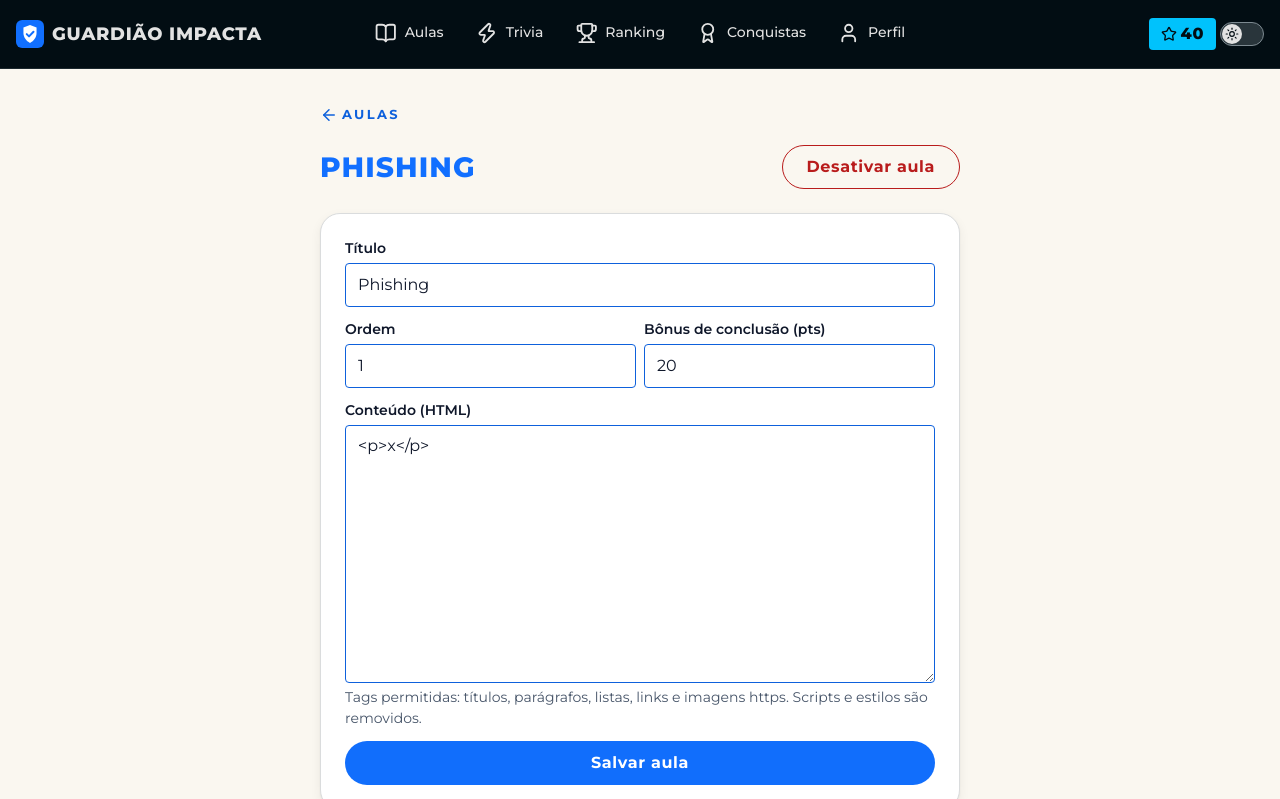
Test case: Editar aula (admin) › salva a aula e mostra confirmação; ordem repetida mostra erro
Expected: the navigation bar named "Navegação principal" is shown, [375,22,905,44]
Replace the text in the field labelled "Título" with "Phishing 2.0" at (640, 285), box [345,263,935,307]
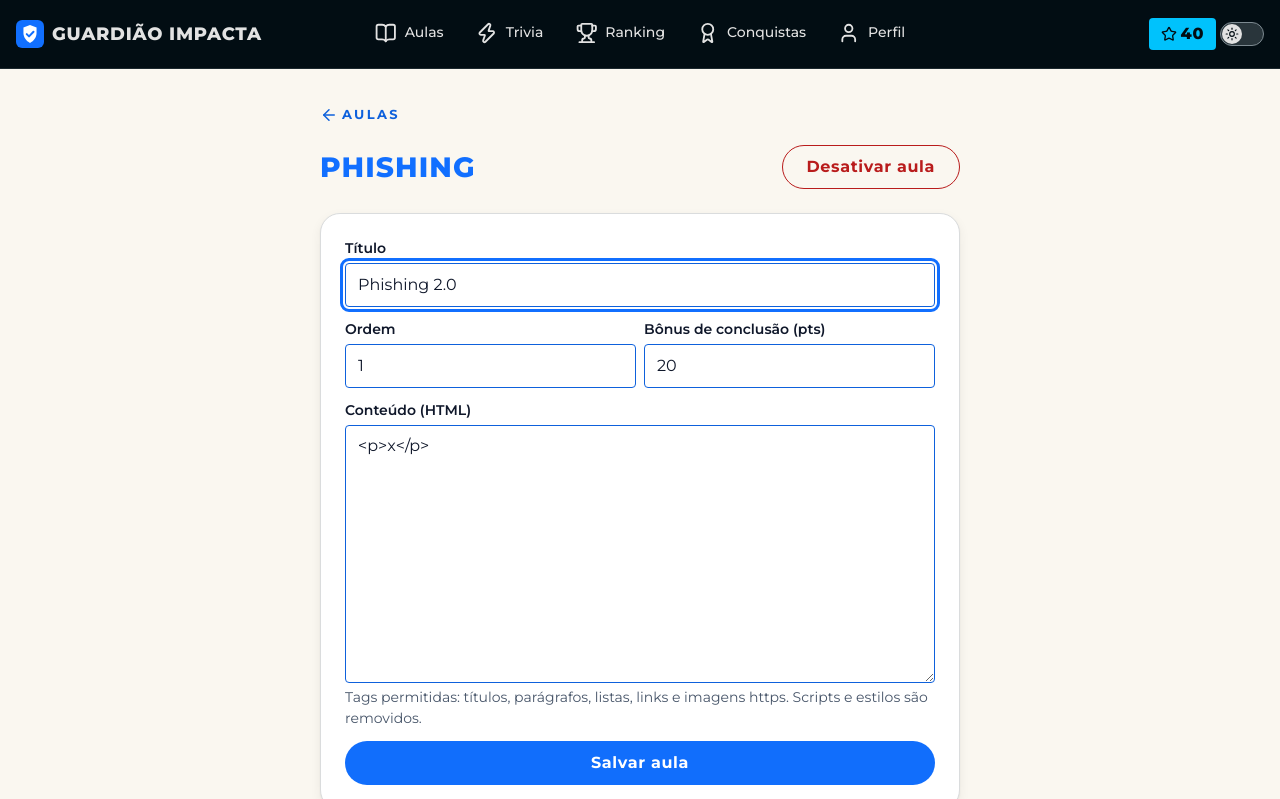
Click the button "Salvar aula" at (640, 763), box [345,741,935,785]
(page scrolled)
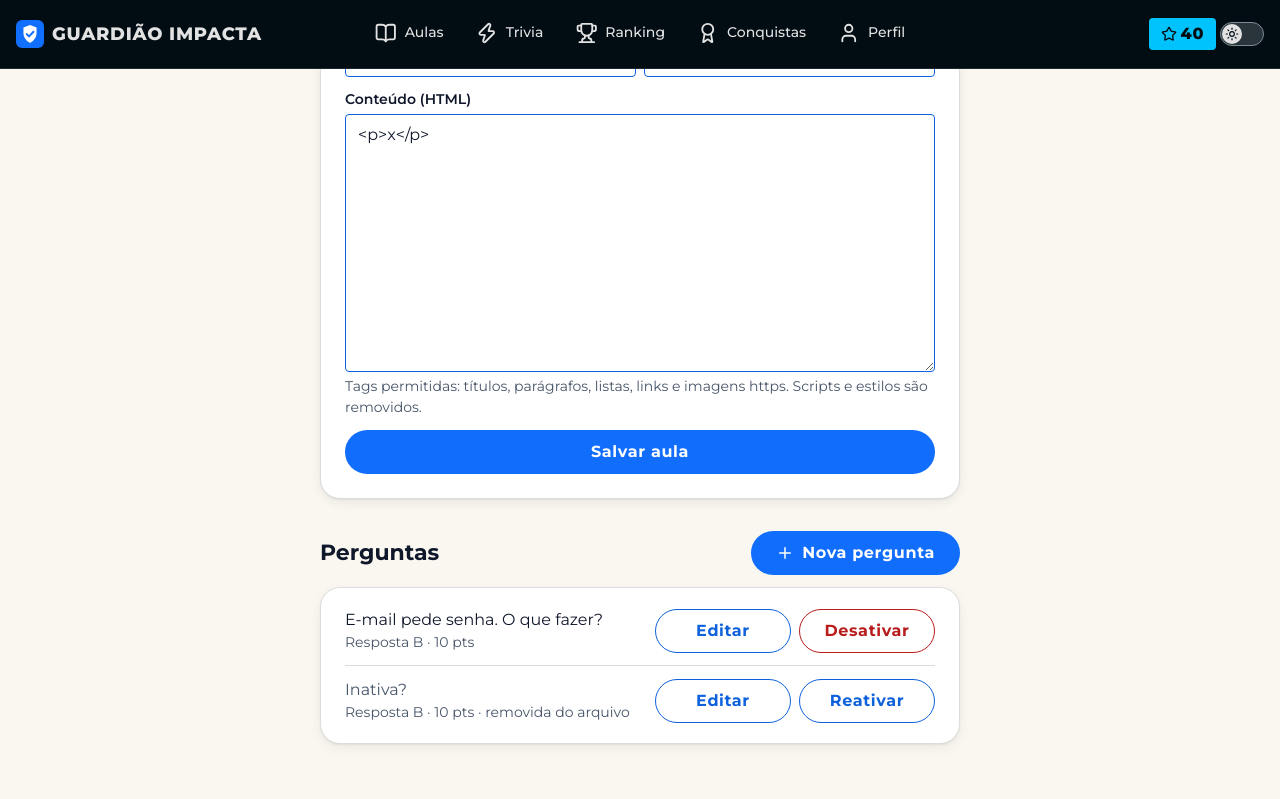
Click the button "Salvar aula" at (640, 452), box [345,430,935,474]
(page scrolled)
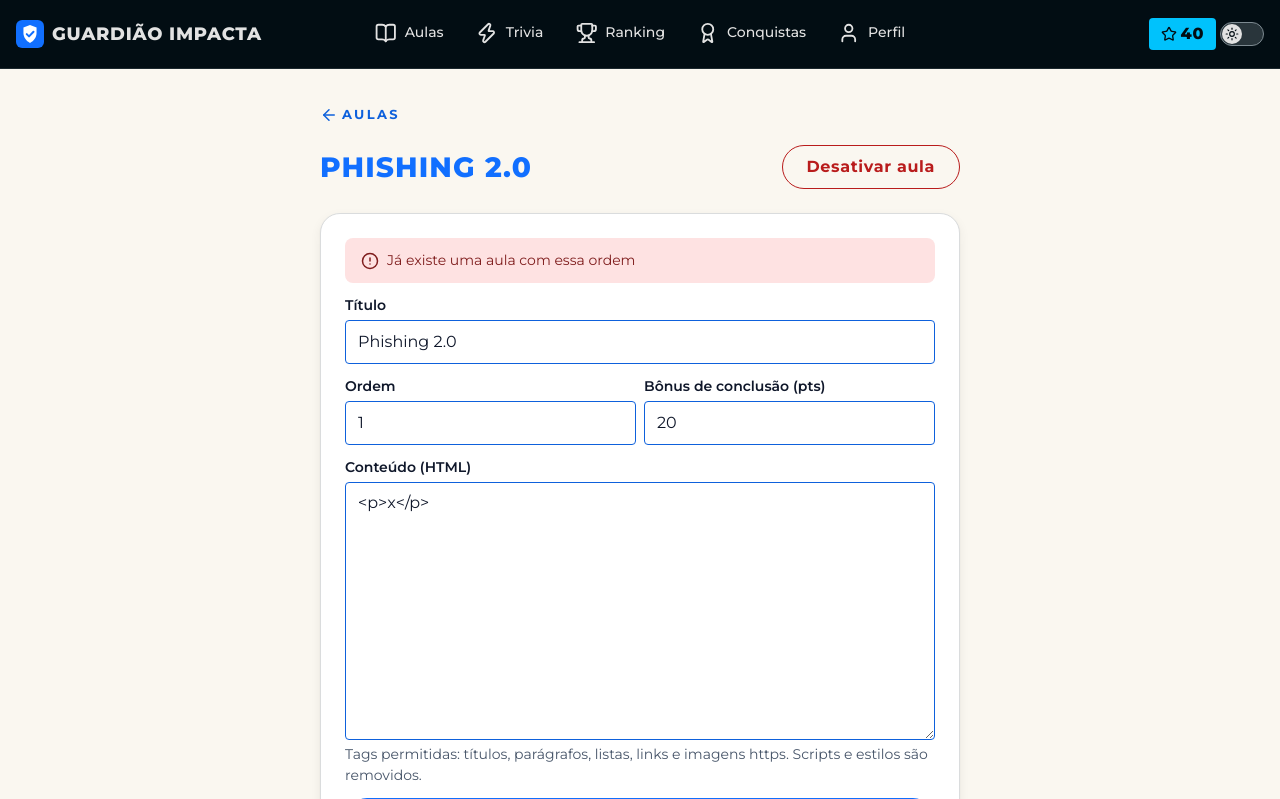
Now the message reads "Já existe uma aula com essa ordem", box [387,251,636,269]
